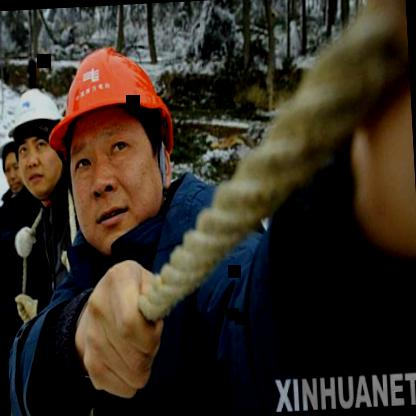helmet: (42, 28, 190, 256), (0, 75, 68, 208), (0, 124, 30, 195)
